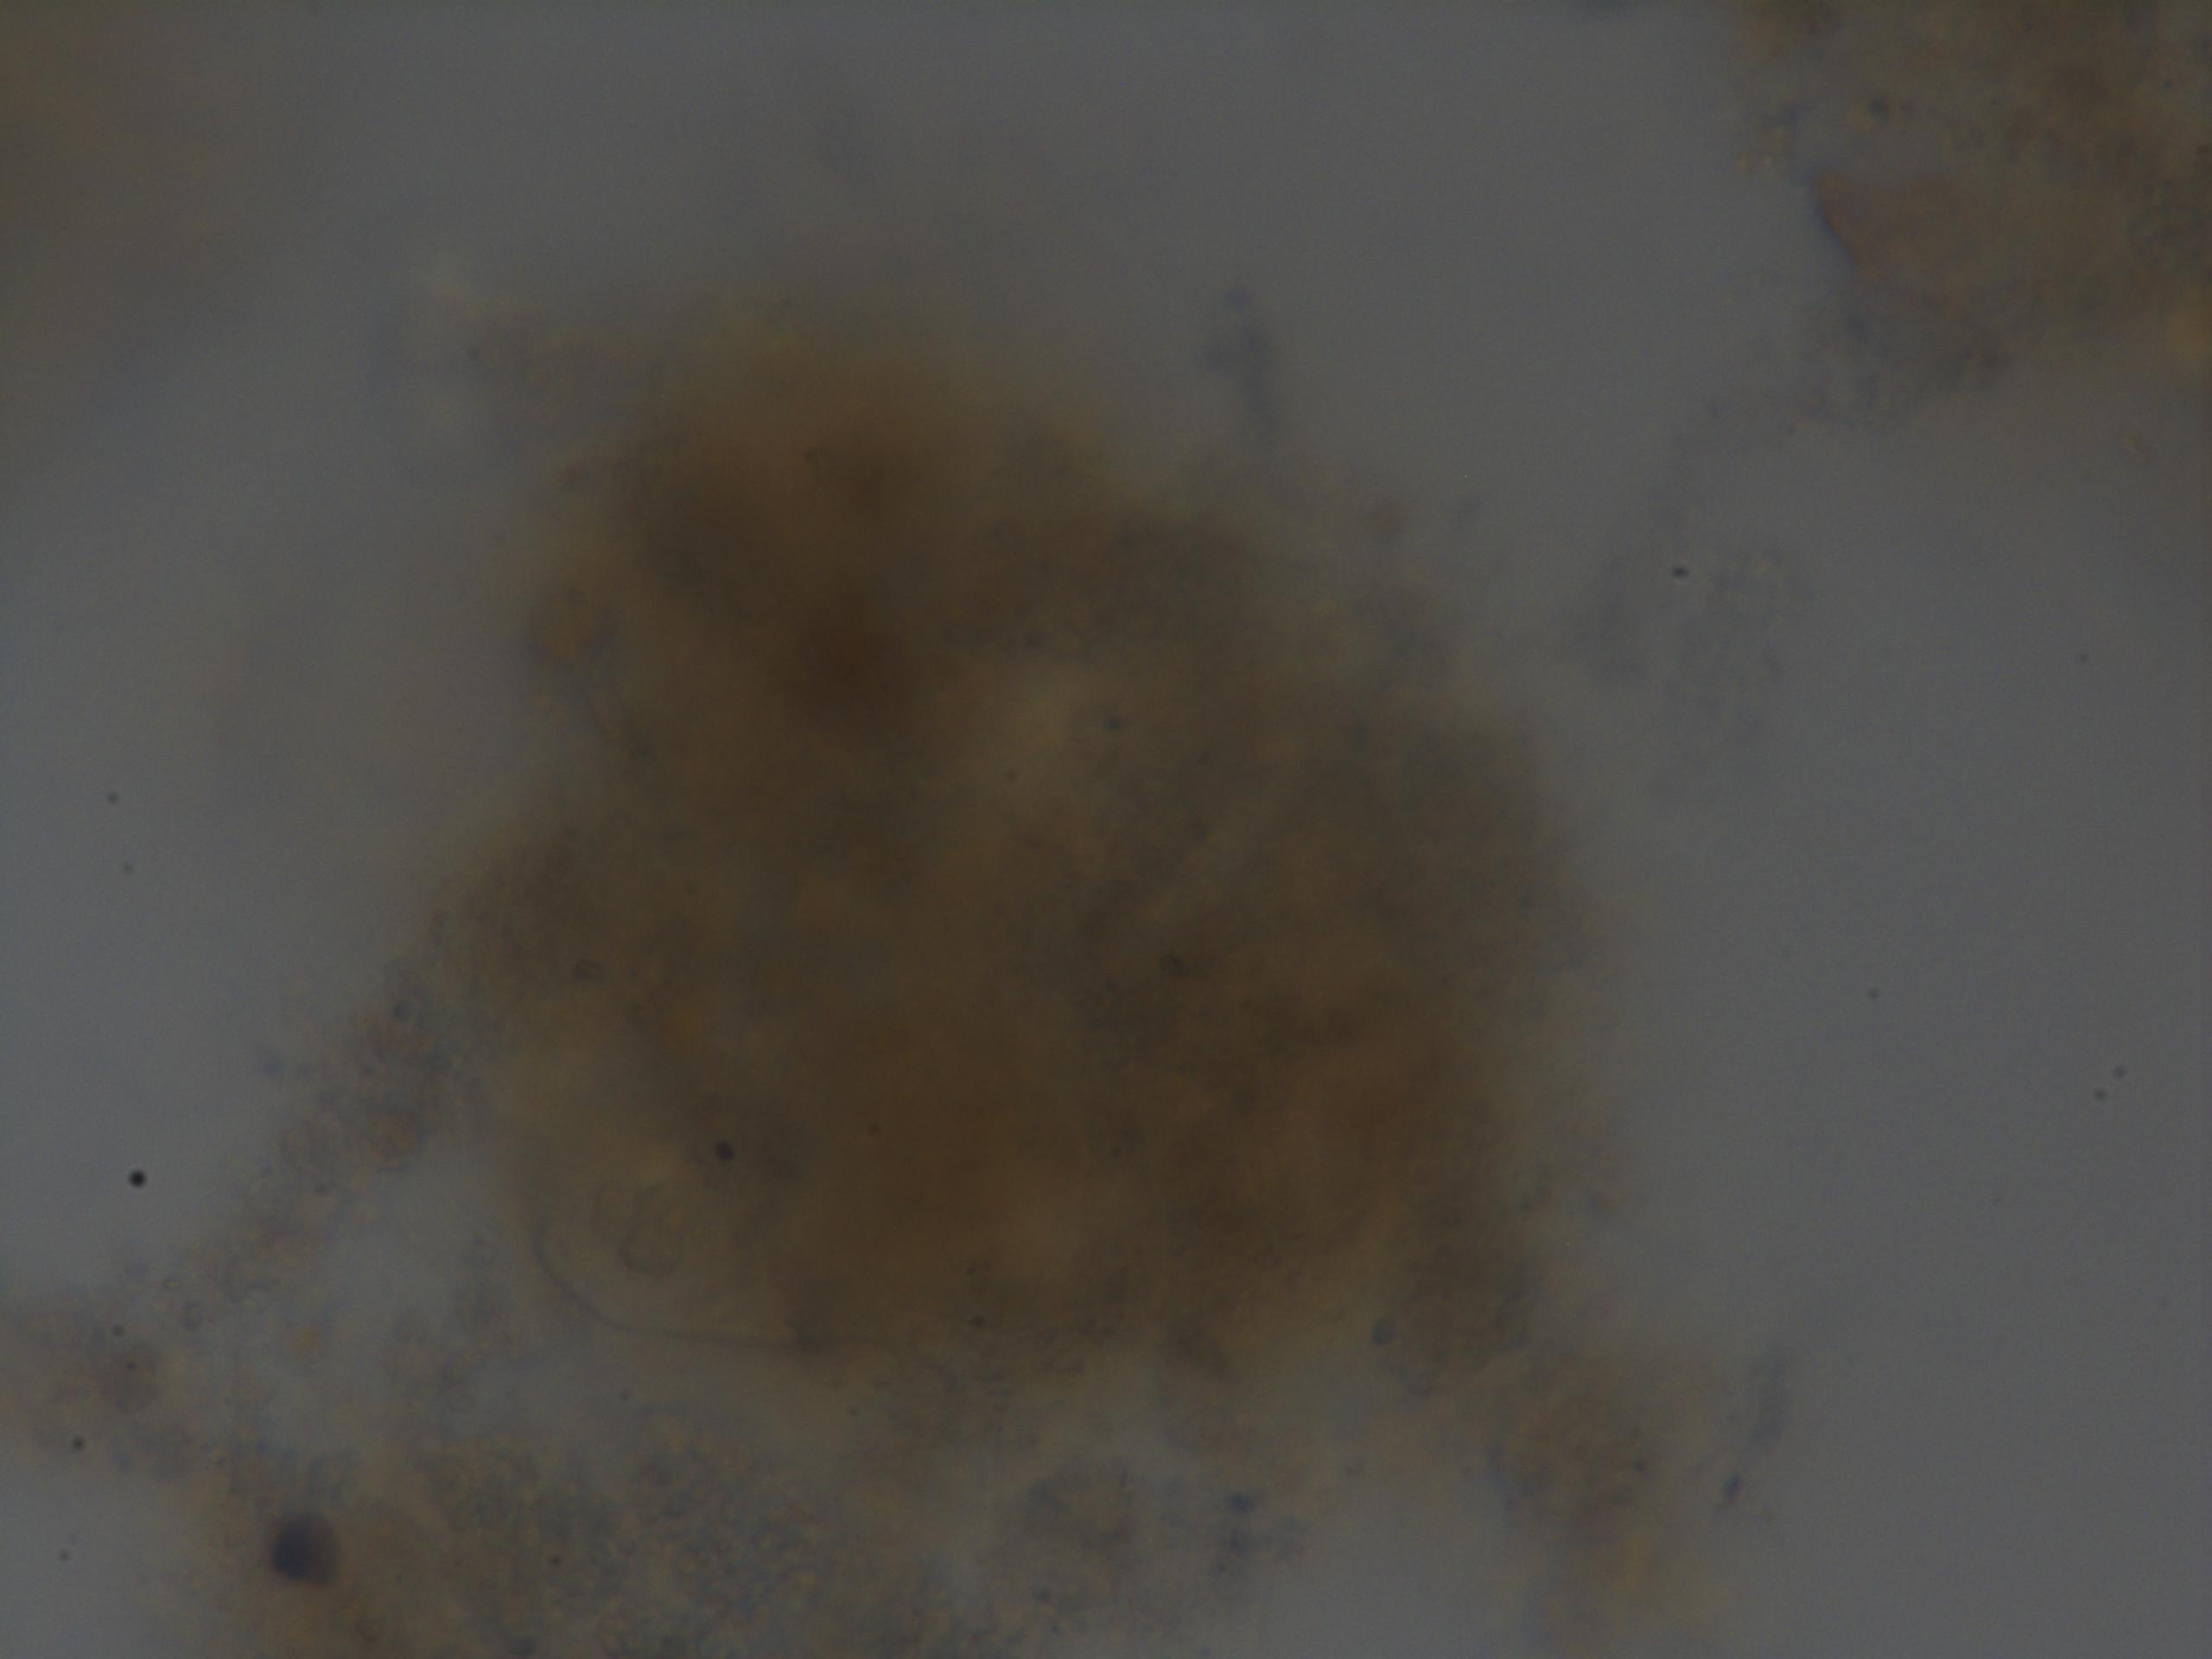spherical_floc: (455, 315, 1627, 1410)
